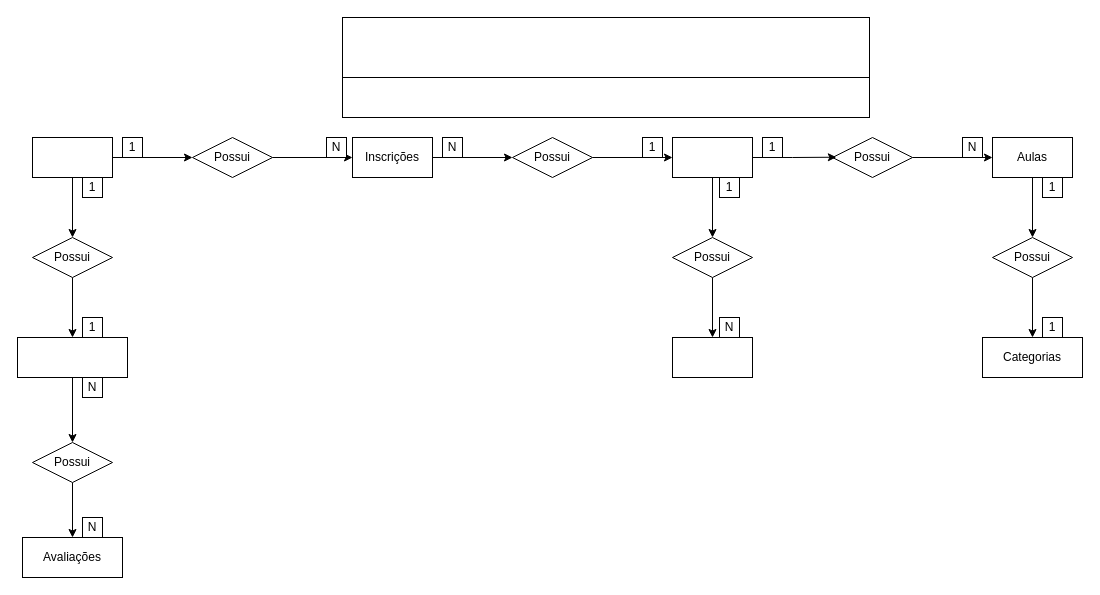
The diagram is 1100 pixels wide and 595 high, and some of its shapes have lost their labels. Here are the shapes that lost their labels. From the top down, the centre of each, then its label:
At [606,47]: "Diagrama Conceitual".
At [606,97]: "Sistema de cursos Gratuitos".
At [72,157]: "Usuários".
At [712,157]: "Cursos".
At [72,357]: "Acompanhamentos".
At [712,357]: "Materiais de Apoio".
